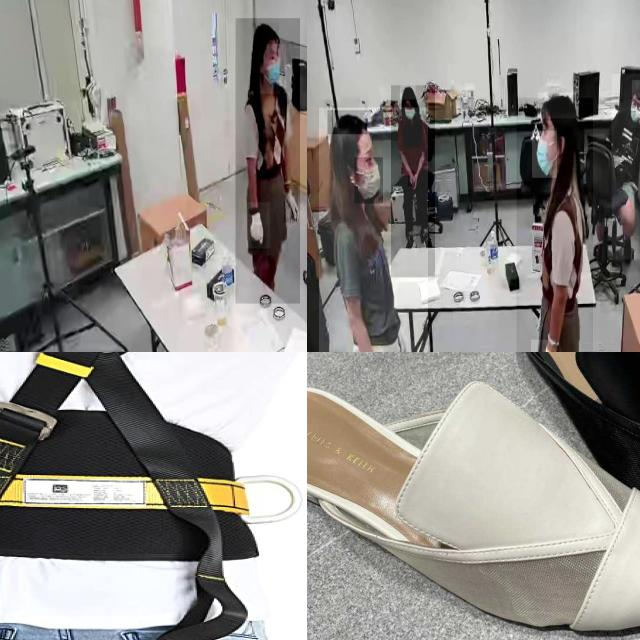Harness: (0, 352, 280, 640)
Sandals: (307, 361, 640, 639), (468, 352, 640, 586)
face_mask: (260, 44, 286, 94), (355, 158, 383, 204), (532, 130, 557, 178), (402, 101, 418, 127), (628, 99, 640, 128)
hand_glove: (247, 202, 270, 250), (284, 184, 298, 223)
hand_noglove: (411, 172, 418, 190), (408, 170, 414, 188)
head_nohelmet: (328, 110, 368, 135), (538, 93, 576, 119), (252, 23, 280, 41), (400, 86, 416, 100), (632, 80, 640, 98)
person: (319, 107, 428, 352), (516, 97, 593, 352), (236, 18, 300, 304), (391, 85, 435, 278), (611, 73, 640, 260)
